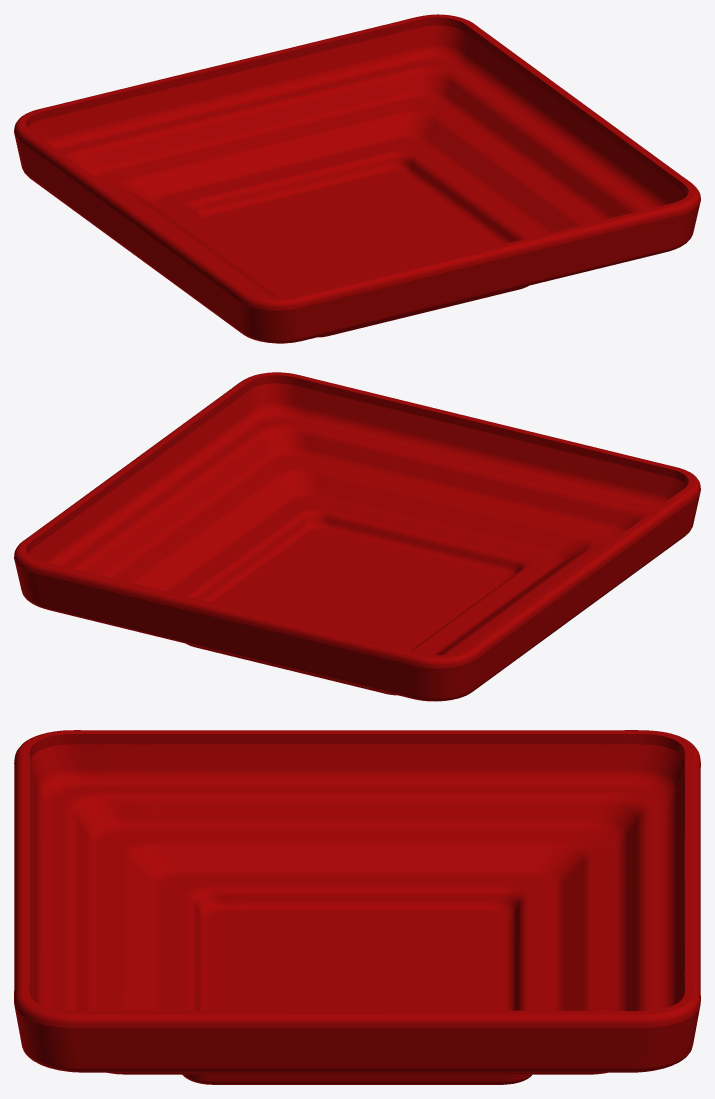
The model's file is CM-MUG045.glb.
3 views of the same model, one above another, from view 1: azimuth 30°, elevation 25°; view 2: azimuth 150°, elevation 25°; view 3: azimuth 270°, elevation 25° (orthographic). The views are drawn at different scales.
Bounding box in the file's own units: 0.1201 × 0.027 × 0.1201.
